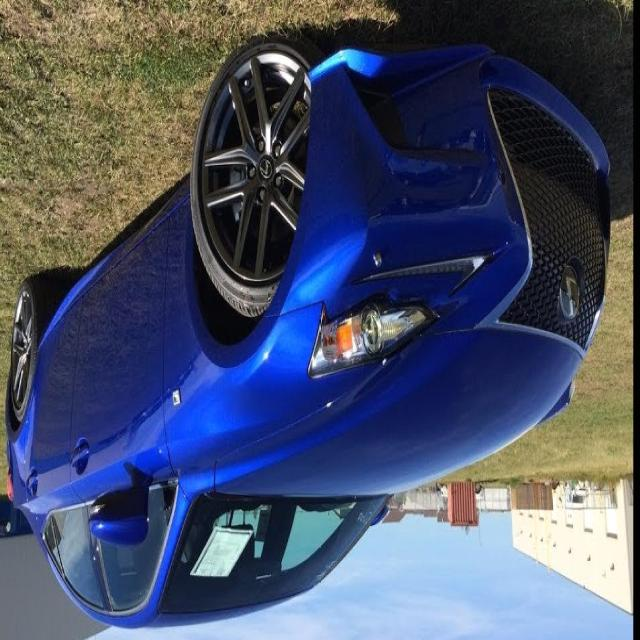blue: (4, 36, 616, 630)
